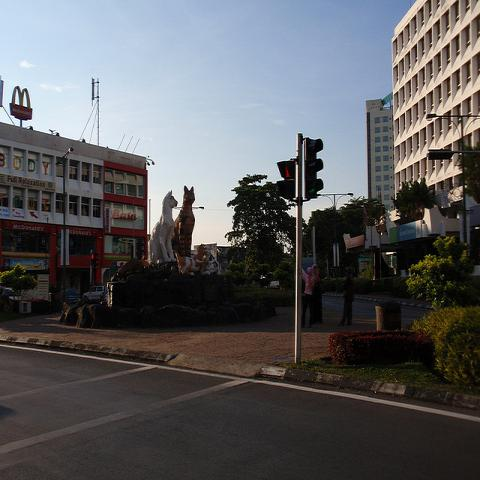car: (1, 287, 22, 315), (82, 286, 105, 301)
truck: (82, 284, 106, 303)
